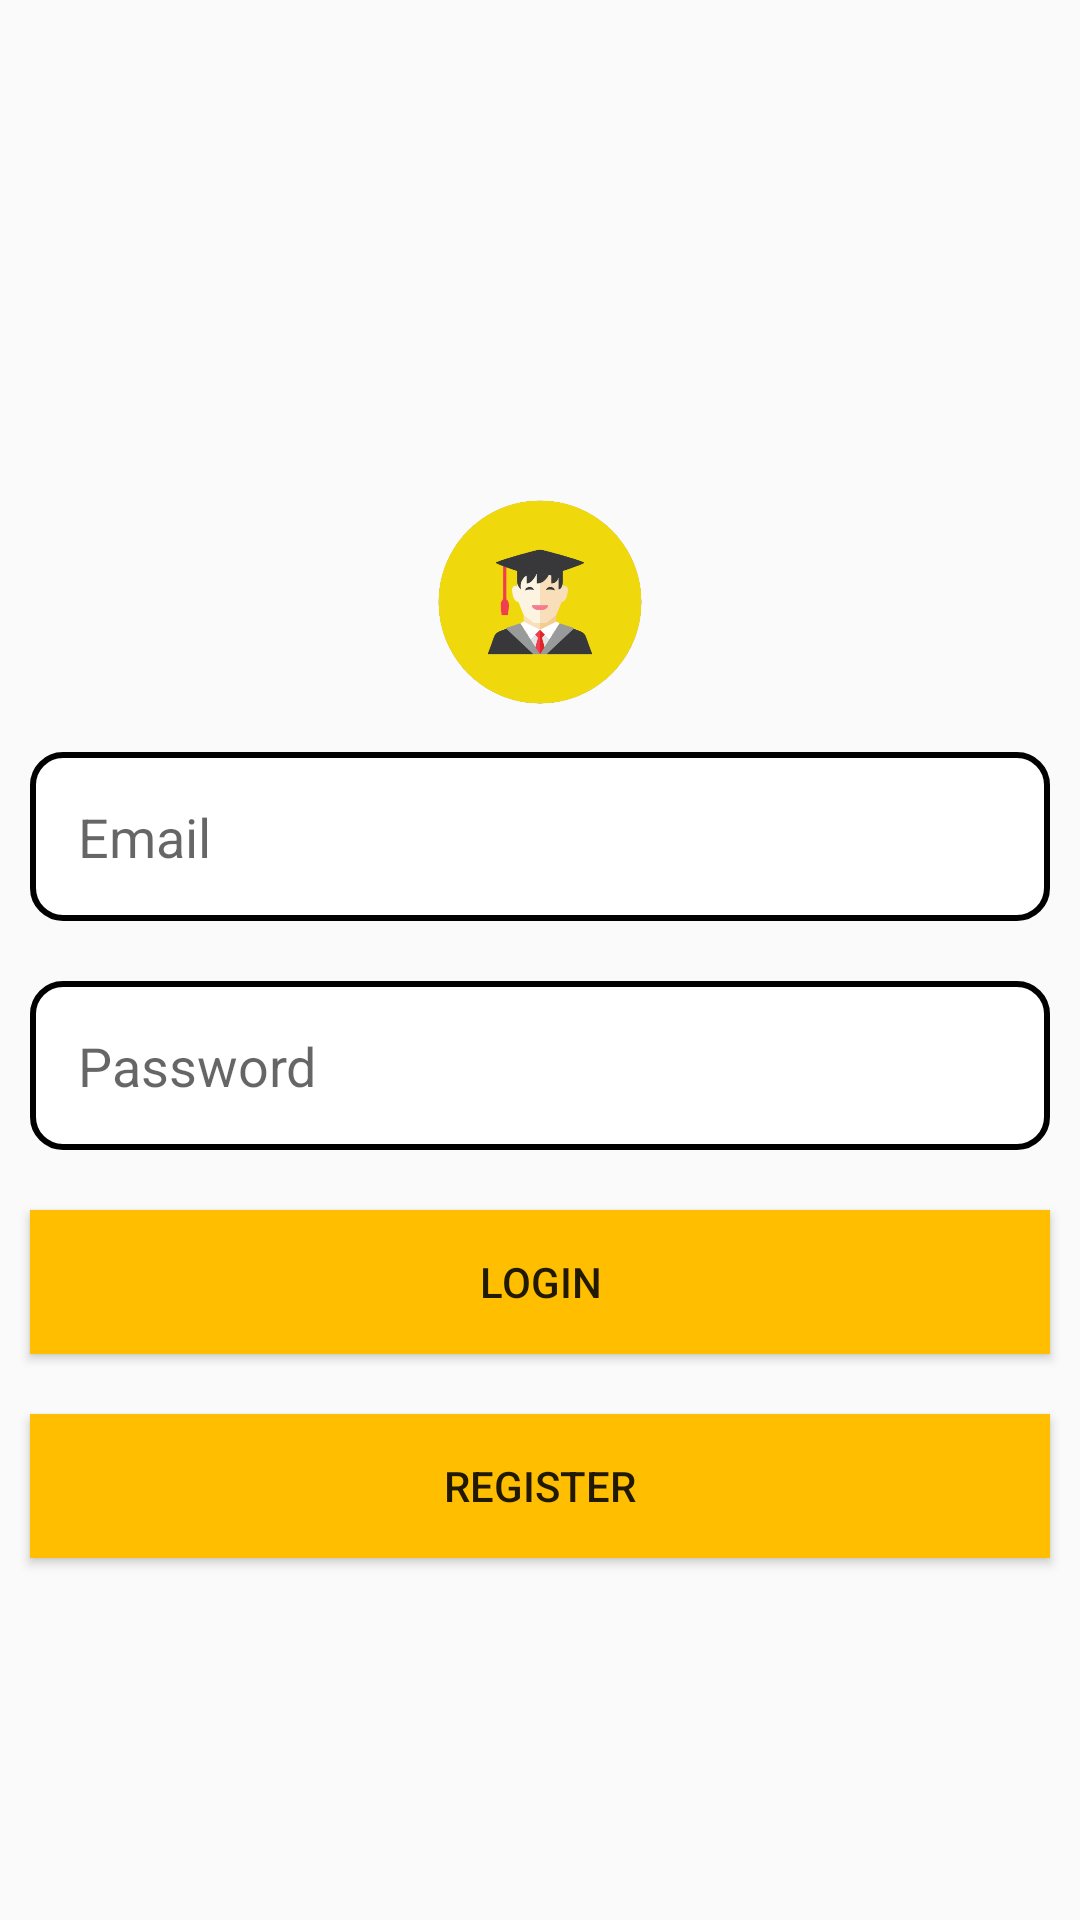

Where icons sit on this 1080 x 1920 app screen, as {"x1": x1, "y1": y1, "x2": x2, "y2": y2}:
iconmahasiswa: {"x1": 438, "y1": 500, "x2": 642, "y2": 704}
